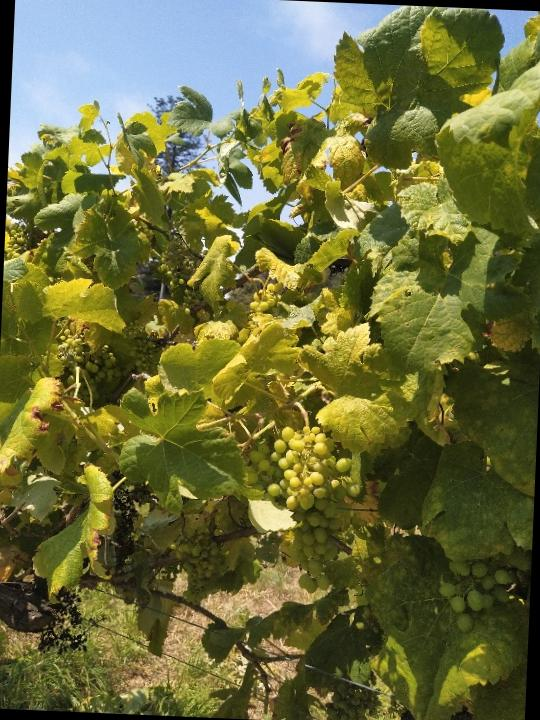grape: (240, 423, 365, 594)
